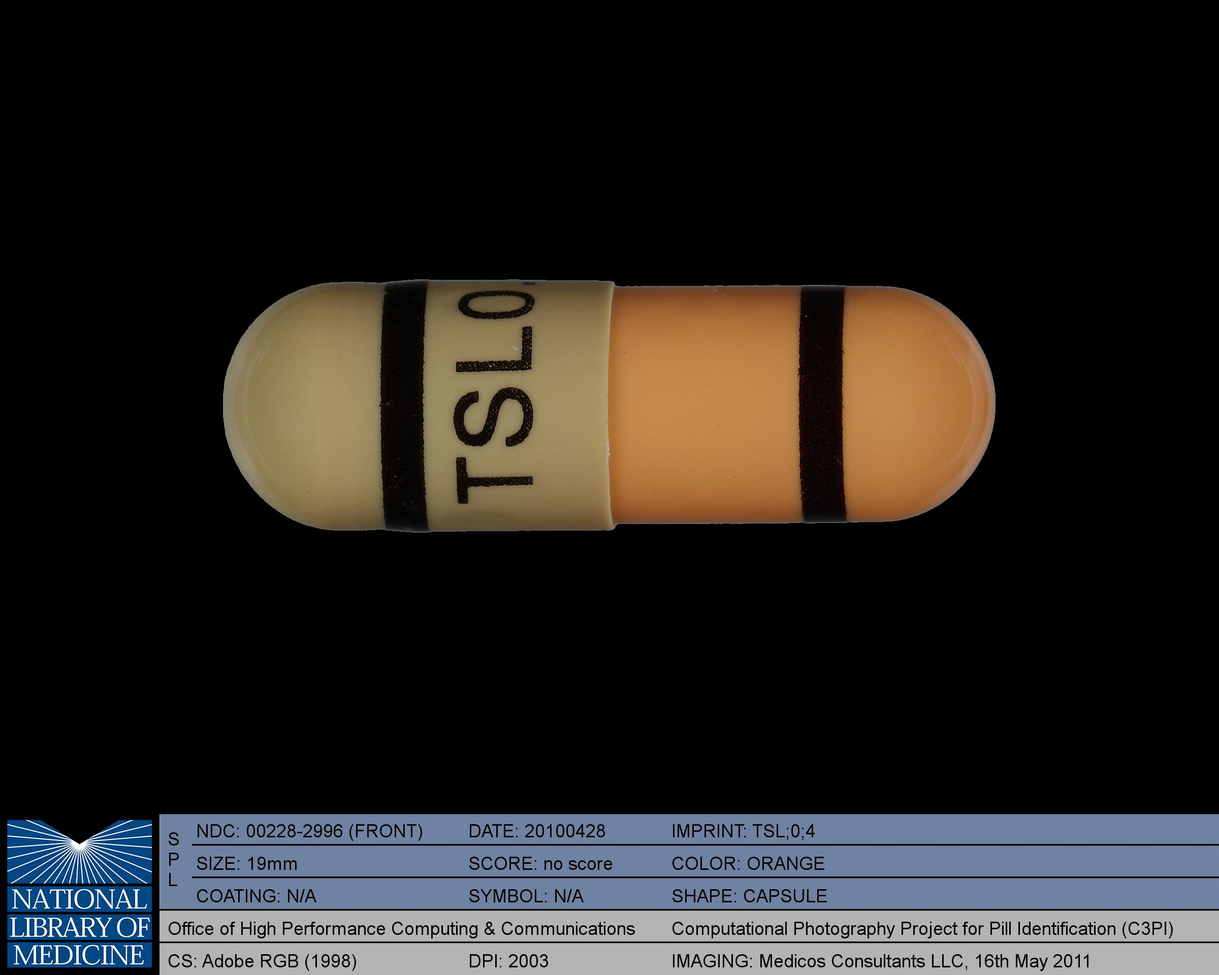Pill: (212, 264, 1006, 543)
